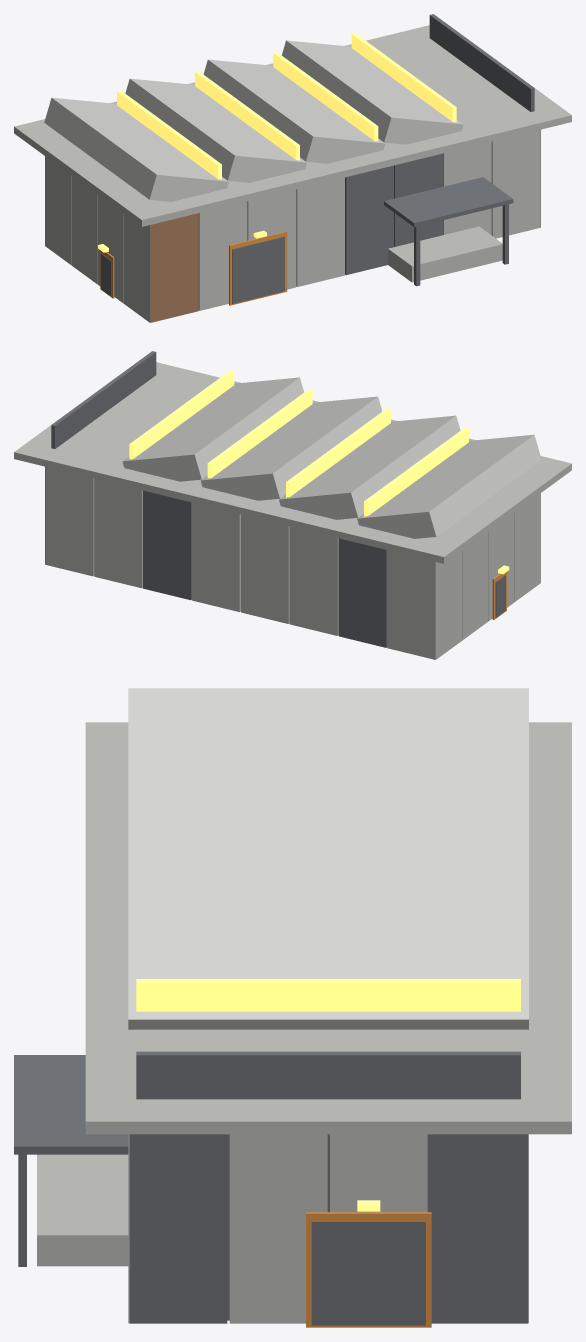
Rendered from B_hall_a.glb.
3 renders of one model, top to bottom at view 1: azimuth 30°, elevation 25°; view 2: azimuth 150°, elevation 25°; view 3: azimuth 270°, elevation 25°, orthographic. The views are drawn at different scales.
Visible parts, largest first — view 1: Cube.040, Cube.041, Cube.047, Cube.045, Cube.043, Cube, Cube.003, Cube.004, Cube.007, Cube.035, Cube.001, Cube.036 (+17 smaller); view 2: Cube.040, Cube.041, Cube.047, Cube.045, Cube.043, Cube.009, Cube.010, Cube.015, Cube.008, Cube.013, Cube.014, Cube.011 (+11 smaller); view 3: Cube.040, Cube.047, Cube.043, Cube.041, Cube.045, Cube.049, Cube.020, Cube.023, Cube.021, Cube.048, Cube.033, Cube.035 (+5 smaller).
Part boxes in pixels (x1,y1,x2,y2): Cube.040: (14, 25, 571, 226); Cube.041: (44, 97, 228, 201); Cube.047: (281, 40, 463, 144); Cube.045: (203, 59, 385, 163); Cube.043: (125, 78, 306, 182); Cube: (150, 213, 198, 322); Cube.003: (296, 177, 344, 286); Cube.004: (345, 165, 393, 275); Cube.007: (491, 129, 540, 238); Cube.035: (388, 226, 502, 282); Cube.001: (198, 201, 247, 310); Cube.036: (384, 177, 513, 227); Cube.040: (14, 362, 571, 563); Cube.041: (357, 434, 541, 538); Cube.047: (122, 377, 304, 481); Cube.045: (200, 396, 382, 500); Cube.043: (279, 415, 460, 519); Cube.009: (338, 538, 387, 647); Cube.010: (289, 526, 338, 635); Cube.015: (45, 466, 94, 576); Cube.008: (387, 550, 435, 659); Cube.013: (143, 490, 191, 600); Cube.014: (94, 478, 142, 588); Cube.011: (241, 514, 289, 623); Cube.040: (85, 722, 571, 1134); Cube.047: (128, 906, 528, 1029); Cube.043: (128, 760, 528, 833); Cube.041: (128, 688, 528, 760); Cube.045: (128, 833, 528, 905); Cube.049: (136, 1051, 520, 1099); Cube.020: (129, 1134, 227, 1323); Cube.023: (430, 1134, 527, 1323); Cube.021: (229, 1134, 327, 1323); Cube.048: (136, 979, 520, 1011); Cube.033: (311, 1221, 425, 1325); Cube.035: (37, 1154, 128, 1266).
Bounding box in the file's own units: 33 × 10.86 × 19.5.
